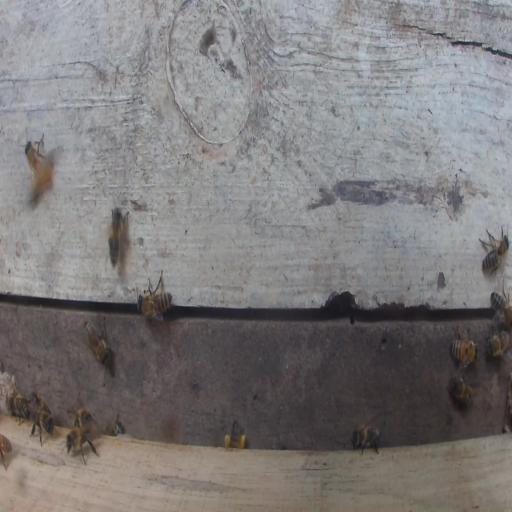nonpollenbee: (137, 269, 173, 324), (479, 226, 509, 275), (83, 319, 112, 366), (30, 393, 55, 447), (24, 140, 52, 188), (65, 426, 99, 464), (108, 205, 128, 268), (450, 328, 479, 368), (351, 424, 381, 453), (448, 375, 474, 406), (490, 291, 511, 329), (486, 329, 510, 358), (68, 406, 95, 428), (10, 395, 29, 420), (0, 432, 12, 470), (109, 422, 122, 437)
pollenbee: (224, 421, 246, 449)
